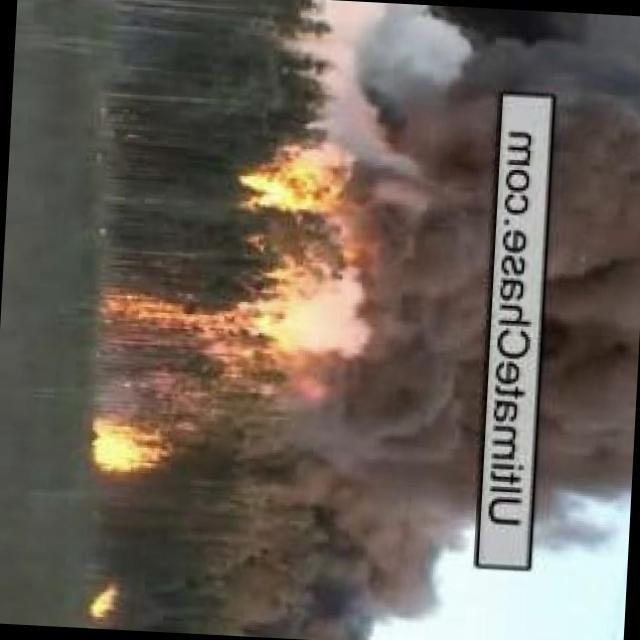Fire: (237, 133, 362, 229), (99, 283, 283, 342), (90, 410, 179, 480), (85, 575, 122, 623)
